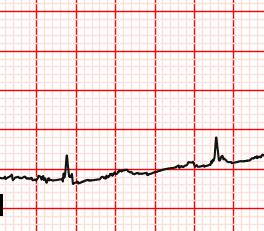Poor R Progression: (59, 152, 77, 185), (210, 134, 223, 167)
